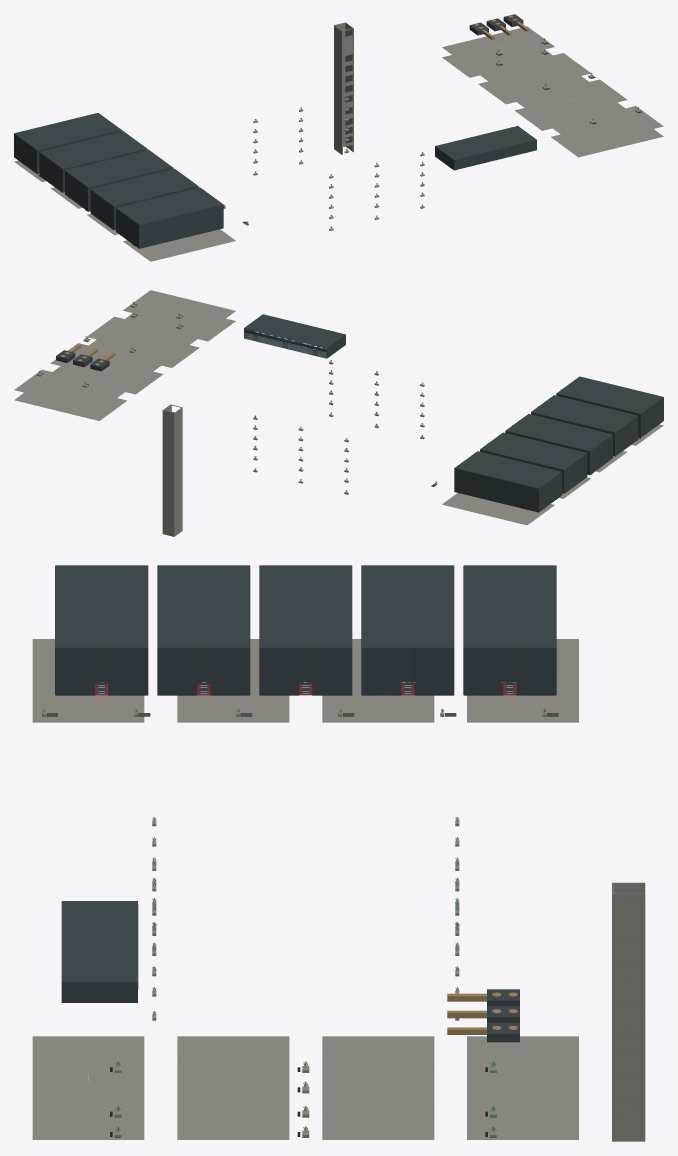
The model's file is leisure.glb.
The picture shows the model from 3 angles, top to bottom: view 1: azimuth 30°, elevation 25°; view 2: azimuth 150°, elevation 25°; view 3: azimuth 270°, elevation 25°; orthographic projection. The views are drawn at different scales.
Parts seen in each view (by area): view 1: Leisure Ink, Leisure Travertine, Leisure Bronze; view 2: Leisure Ink, Leisure Travertine, Leisure Glass; view 3: Leisure Travertine, Leisure Ink, Leisure Bronze.
Part boxes in pixels (x1,y1,x2,y2): Leisure Ink: [14, 14, 536, 248]; Leisure Travertine: [14, 22, 663, 261]; Leisure Bronze: [342, 15, 528, 152]; Leisure Ink: [56, 314, 663, 512]; Leisure Travertine: [14, 290, 663, 536]; Leisure Glass: [244, 332, 326, 357]; Leisure Travertine: [32, 639, 645, 1141]; Leisure Ink: [55, 565, 556, 1042]; Leisure Bronze: [447, 992, 517, 1034].
Bounding box in the file's own units: 364 × 83 × 186.
15 materials, 3 textured.
